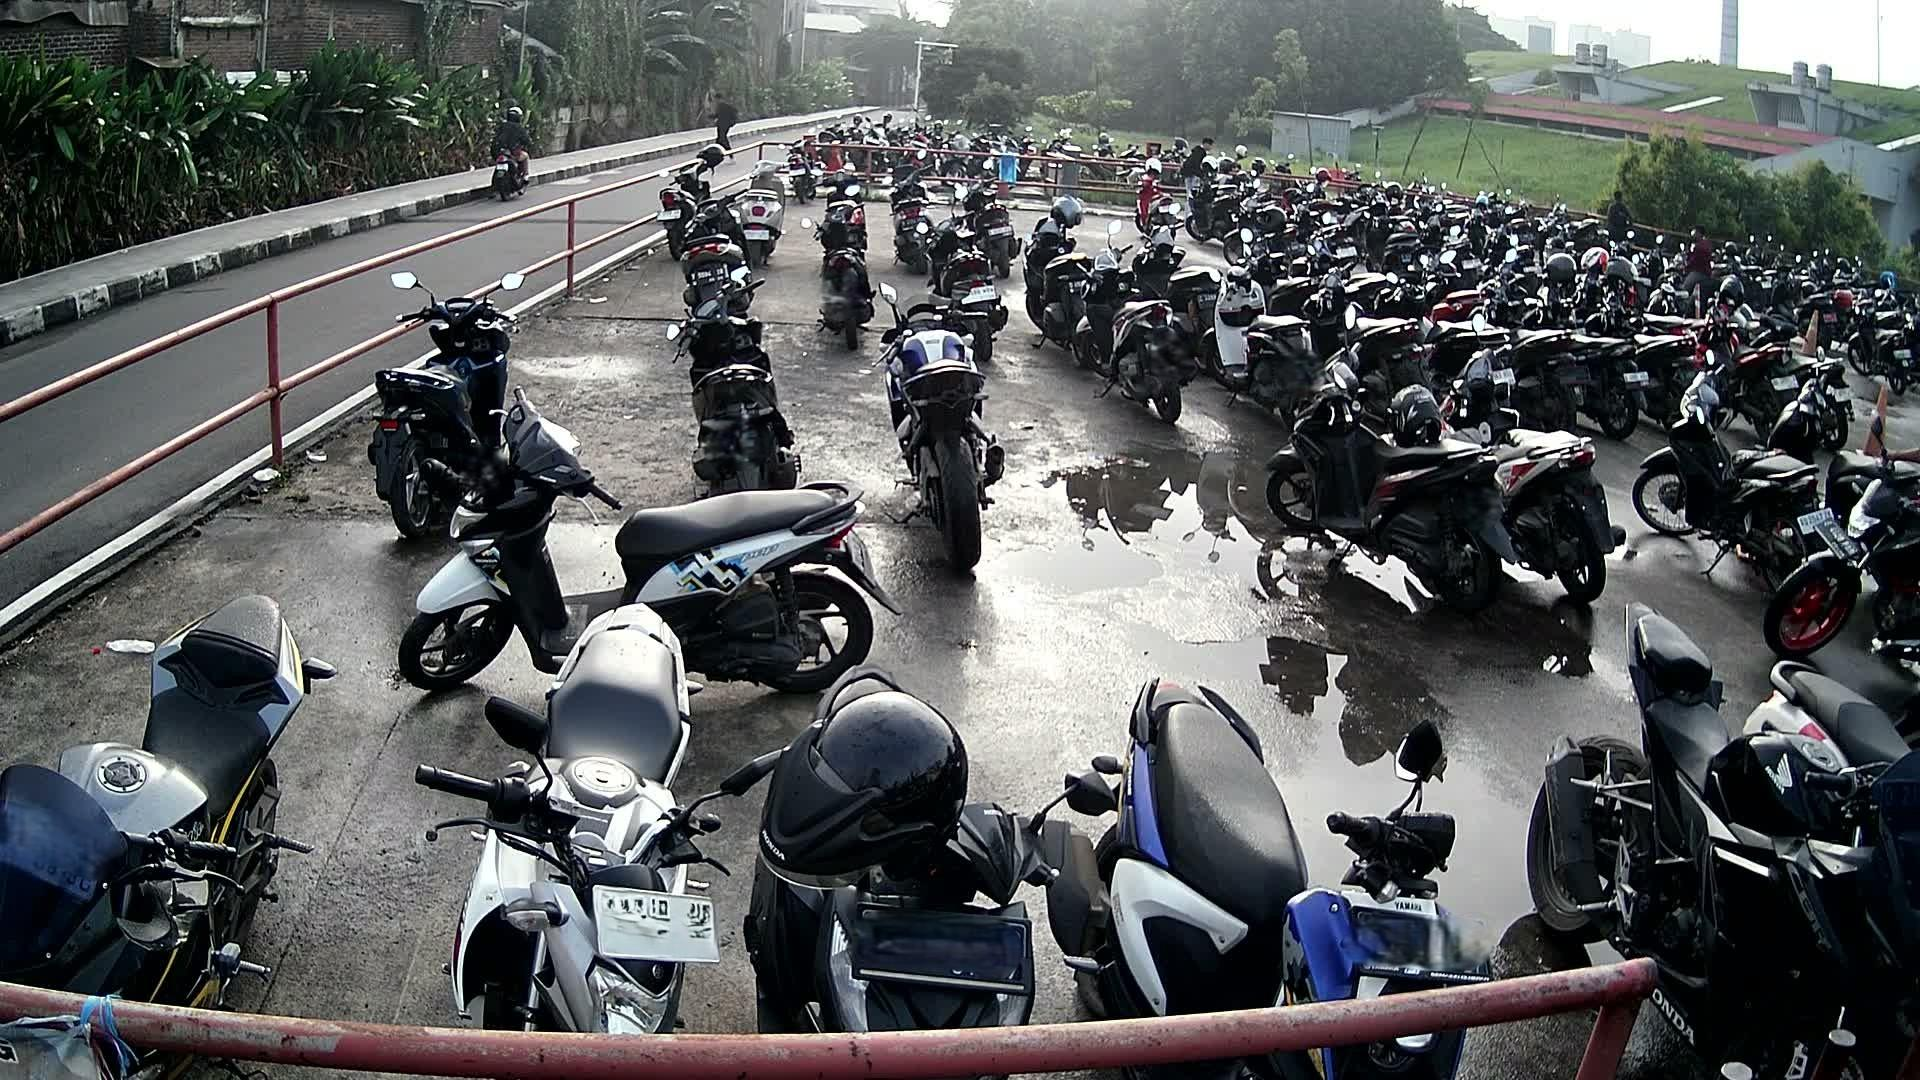motorcycle: (398, 394, 909, 698), (1042, 676, 1491, 1006), (415, 601, 740, 1036), (0, 591, 336, 996), (1527, 609, 1913, 956), (742, 663, 1064, 1023), (1263, 359, 1518, 615), (1437, 359, 1625, 600), (874, 287, 1017, 572), (371, 270, 512, 538), (1638, 375, 1824, 564), (667, 285, 810, 493), (1771, 480, 1920, 654), (1741, 661, 1920, 777)
